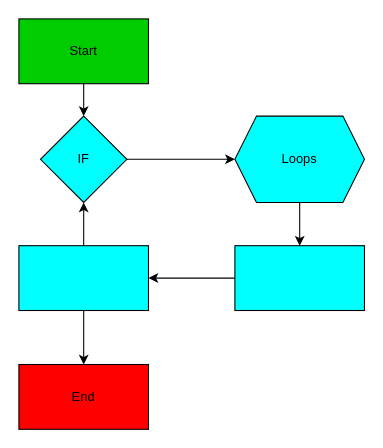
The diagram is 383 pixels wide and 448 high, and some of its shapes have lost their labels. Each missing label, with the box of its shape:
Flow Control: (234, 245, 364, 310)
Functions: (18, 245, 148, 310)
